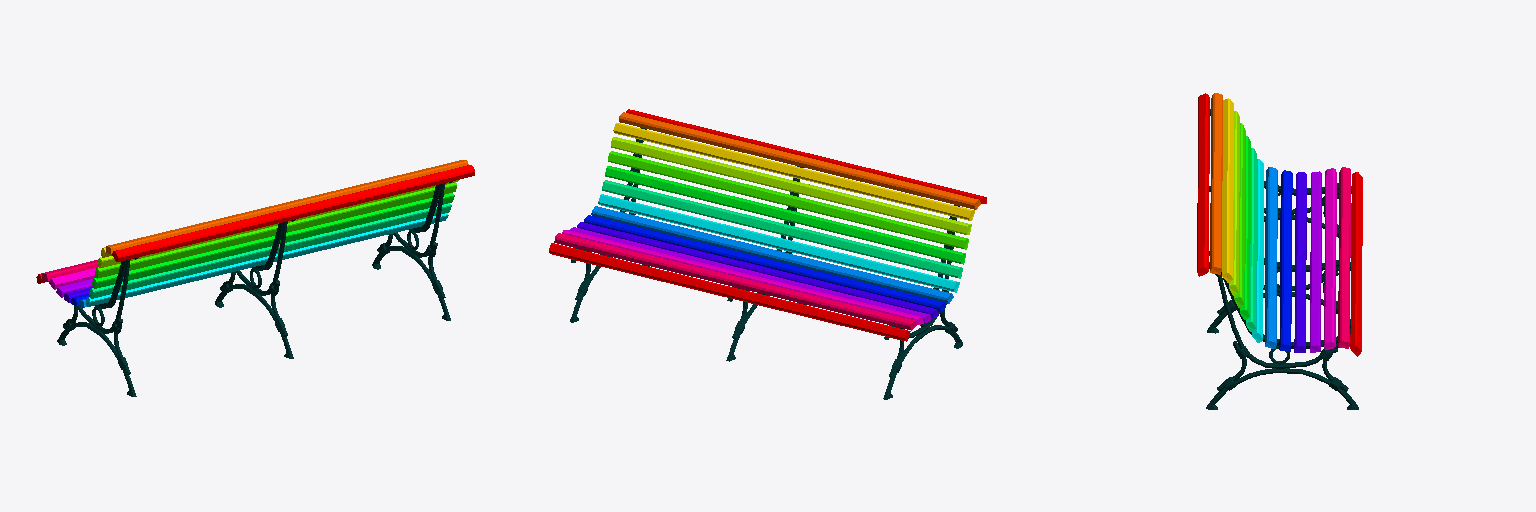
The model's file is rainbowBench2.obj.
3 renders of one model, left to right at view 1: azimuth 30°, elevation 25°; view 2: azimuth 150°, elevation 25°; view 3: azimuth 270°, elevation 25°, orthographic.
Parts seen in each view (by area): view 1: rainbowBench:banco6 rainbowBench:group1 rainbowBench:group4 rain; view 2: rainbowBench:banco6 rainbowBench:group1 rainbowBench:group4 rain; view 3: rainbowBench:banco6 rainbowBench:group1 rainbowBench:group4 rain.
Boxes of the visible parts, x1=… form: rainbowBench:banco6 rainbowBench:group1 rainbowBench:group4 rain: x1=36, y1=160, x2=474, y2=396; rainbowBench:banco6 rainbowBench:group1 rainbowBench:group4 rain: x1=549, y1=109, x2=986, y2=399; rainbowBench:banco6 rainbowBench:group1 rainbowBench:group4 rain: x1=1197, y1=93, x2=1362, y2=409.
Bounding box in the file's own units: 18.02 × 7.32 × 7.24.